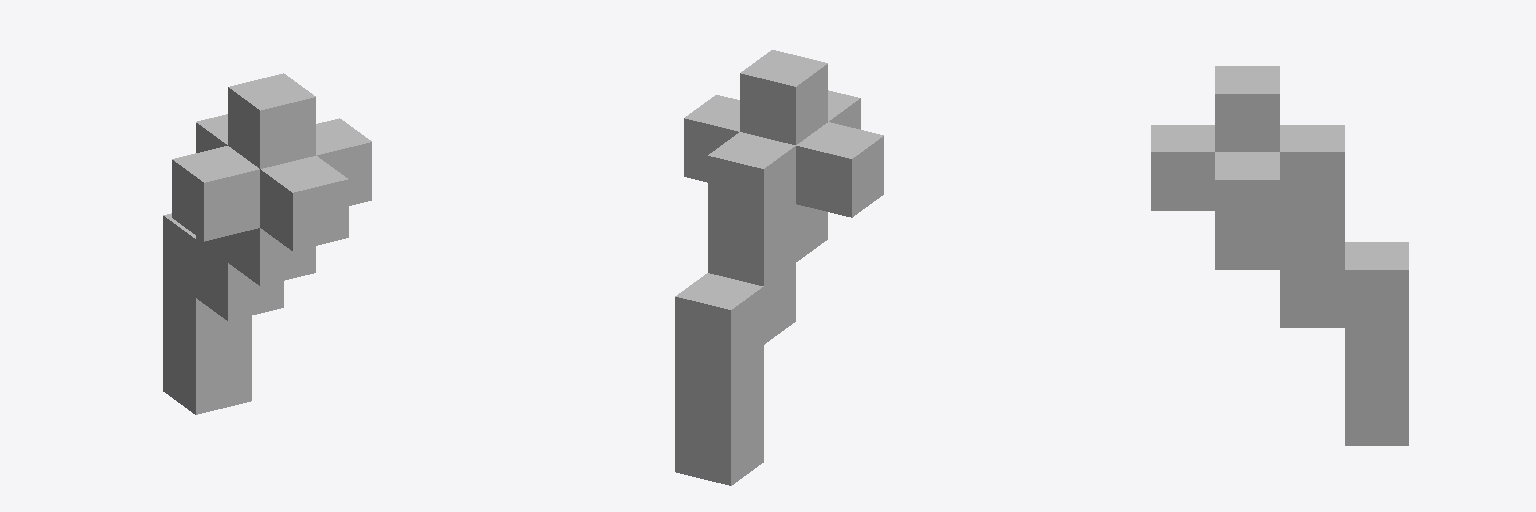
File: Little_flower_1.obj
3 views of the same model, side by side, from view 1: azimuth 30°, elevation 25°; view 2: azimuth 150°, elevation 25°; view 3: azimuth 270°, elevation 25° (orthographic).
Parts seen in each view (by area): view 1: Little flower 1; view 2: Little flower 1; view 3: Little flower 1.
Boxes of the visible parts, box(x1,y1,x2,y2) form: Little flower 1: box(163, 73, 371, 414); Little flower 1: box(675, 50, 883, 485); Little flower 1: box(1151, 66, 1408, 445).
Size of the model in its own units: 3 by 6 by 4.